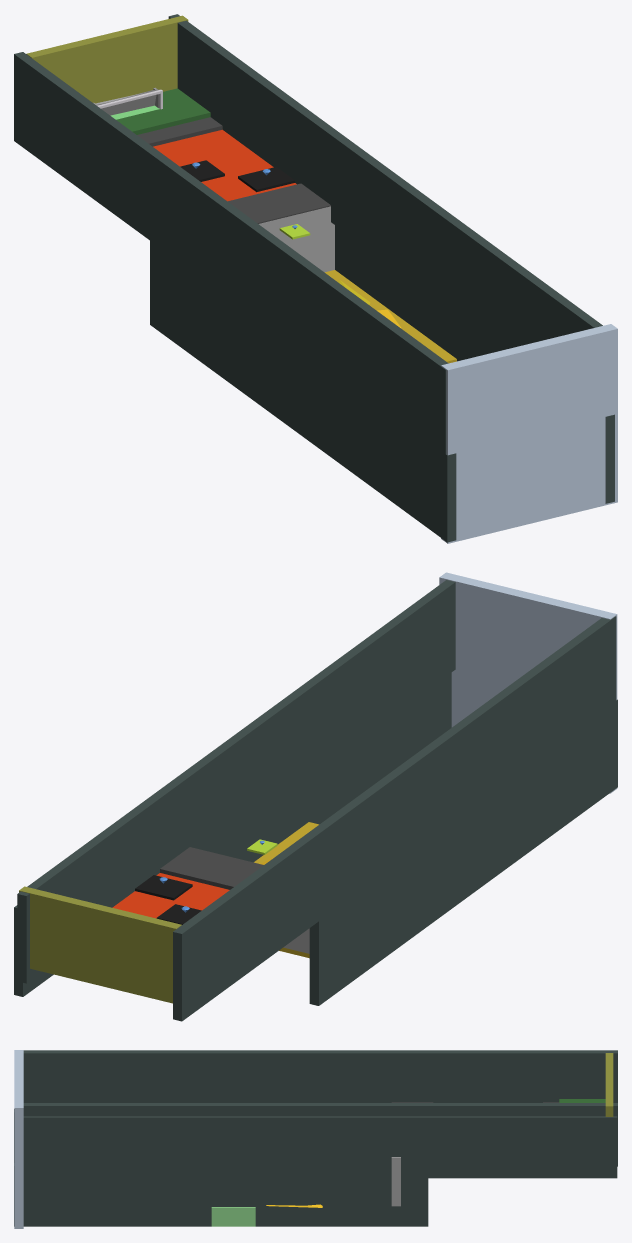
Rendered from level4.gltf.
The picture shows the model from 3 angles, top to bottom: view 1: azimuth 30°, elevation 25°; view 2: azimuth 150°, elevation 25°; view 3: azimuth 270°, elevation 25°; orthographic projection. The views are drawn at different scales.
Parts seen in each view (by area): view 1: Cube.025, Cube.064, Cube.014, Cube.002, Cube.069, Cube.003, Cube.068, Cube.030, Cube.066, Cube.073, Cube.072, Cube.027 (+1 smaller); view 2: Cube.025, Cube.064, Cube.002, Cube.014, Cube.069, Cube.003, Cube.066, Cube.068, Platform1, Cube.026, Cube.027; view 3: Cube.026, Cube.025, Cube.003, Cube.064, Cube.014, Cube, Cube.069, Cube.030.
Part boxes in pixels (left/top/right/bottom): Cube.025: left=14, top=52, right=448, bottom=454; Cube.064: left=168, top=14, right=602, bottom=349; Cube.014: left=441, top=324, right=617, bottom=543; Cube.002: left=150, top=238, right=456, bottom=542; Cube.069: left=26, top=15, right=188, bottom=103; Cube.003: left=335, top=225, right=614, bottom=503; Cube.068: left=153, top=129, right=296, bottom=201; Cube.030: left=259, top=206, right=334, bottom=272; Cube.066: left=228, top=183, right=330, bottom=223; Cube.073: left=116, top=88, right=210, bottom=134; Cube.072: left=137, top=117, right=222, bottom=146; Cube.027: left=325, top=270, right=456, bottom=363; Cube.025: left=173, top=616, right=616, bottom=1021; Cube.064: left=17, top=580, right=455, bottom=983; Cube.002: left=309, top=699, right=617, bottom=1005; Cube.014: left=439, top=572, right=617, bottom=793; Cube.069: left=19, top=886, right=181, bottom=1003; Cube.003: left=207, top=672, right=451, bottom=862; Cube.066: left=160, top=847, right=263, bottom=889; Cube.068: left=112, top=873, right=229, bottom=918; Platform1: left=135, top=875, right=192, bottom=900; Cube.026: left=14, top=905, right=53, bottom=996; Cube.027: left=254, top=822, right=318, bottom=958; Cube.026: left=23, top=1116, right=617, bottom=1178; Cube.025: left=23, top=1050, right=617, bottom=1102; Cube.003: left=14, top=1163, right=428, bottom=1226; Cube.064: left=23, top=1103, right=617, bottom=1166; Cube.014: left=14, top=1050, right=23, bottom=1228; Cube: left=211, top=1207, right=255, bottom=1226; Cube.069: left=605, top=1053, right=613, bottom=1116; Cube.030: left=391, top=1157, right=400, bottom=1206.
Size of what is drawn, in the model's own units: 275 by 264 by 1190.
